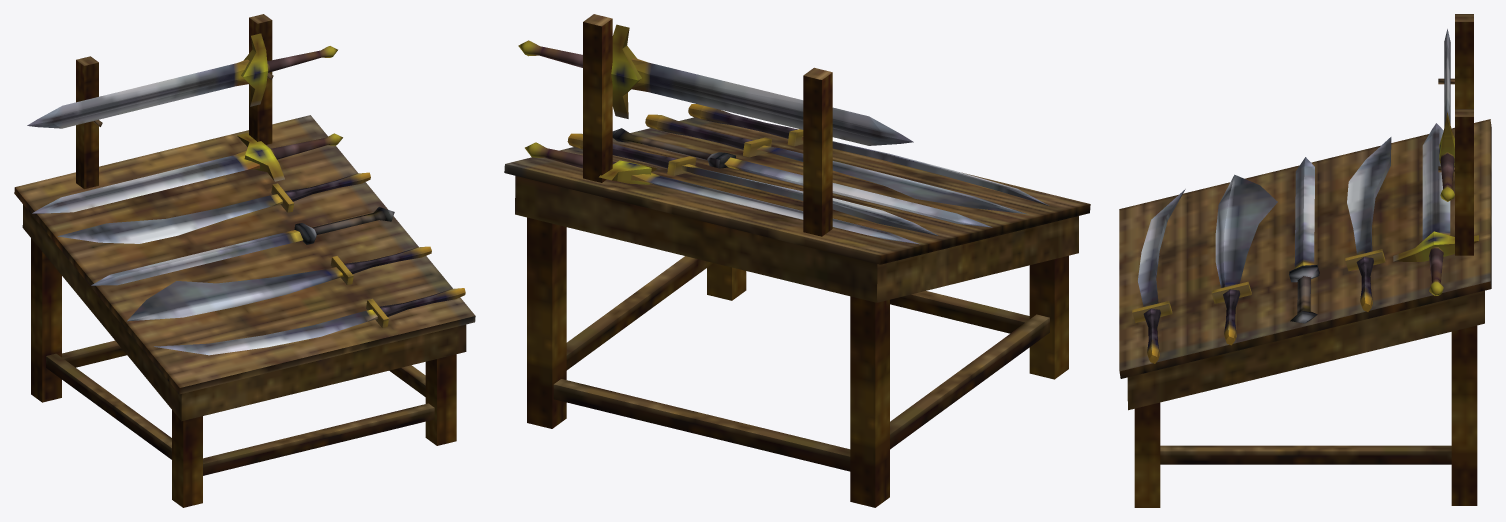
File: b_general_obj_24.glb
3 renders of one model, left to right at view 1: azimuth 30°, elevation 25°; view 2: azimuth 150°, elevation 25°; view 3: azimuth 270°, elevation 25°, orthographic. The views are drawn at different scales.
Parts seen in each view (by area): view 1: Sphere01; view 2: Sphere01; view 3: Sphere01.
Boxes of the visible parts, <box> form: Sphere01: <box>14,14,475,507</box>; Sphere01: <box>504,14,1090,507</box>; Sphere01: <box>1119,14,1491,507</box>.
Bounding box in the file's own units: 1.45 × 1.46 × 1.34.
1 material, 1 textured.
